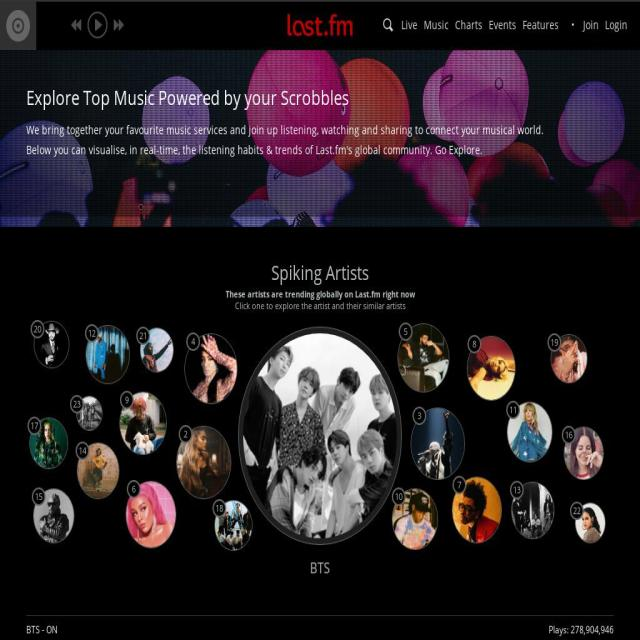button: (288, 8, 352, 42), (0, 2, 36, 50), (522, 8, 558, 42), (86, 0, 108, 50), (65, 0, 86, 50), (108, 0, 128, 50), (455, 8, 483, 42), (489, 8, 516, 42), (424, 8, 448, 42), (605, 8, 627, 42), (378, 8, 398, 42), (402, 8, 418, 42), (583, 8, 599, 42)
heading: (26, 85, 614, 110), (26, 262, 614, 283)
image: (0, 50, 640, 227), (243, 334, 397, 538), (176, 426, 231, 498), (410, 408, 464, 479), (184, 334, 237, 404), (398, 324, 449, 393), (126, 482, 176, 548), (452, 478, 501, 542), (467, 336, 515, 400), (120, 393, 167, 455), (392, 488, 437, 550), (507, 402, 552, 462), (86, 325, 130, 383), (511, 482, 554, 538), (78, 442, 120, 498), (34, 488, 74, 542), (564, 428, 604, 480), (30, 418, 68, 468), (215, 501, 253, 551), (0, 2, 36, 50), (551, 335, 587, 383), (34, 321, 70, 367), (140, 328, 173, 372), (575, 504, 605, 544), (76, 396, 102, 430)
link: (310, 560, 330, 575), (26, 624, 40, 636), (46, 624, 58, 636)
text: (26, 120, 614, 140), (26, 140, 614, 160), (225, 288, 415, 300), (234, 299, 406, 312), (42, 0, 60, 50), (548, 624, 614, 636), (178, 424, 193, 444), (467, 334, 482, 354), (391, 486, 406, 506), (31, 486, 46, 506), (412, 406, 427, 425), (126, 480, 141, 499), (119, 391, 134, 410), (506, 400, 521, 419), (547, 333, 562, 352), (186, 332, 200, 352), (399, 322, 413, 342), (136, 326, 150, 346), (70, 394, 84, 414), (452, 476, 467, 494), (85, 323, 99, 342), (510, 480, 524, 499), (76, 441, 90, 460), (562, 426, 576, 445), (27, 416, 41, 435), (212, 499, 226, 518), (31, 320, 45, 338), (570, 502, 584, 520), (40, 624, 46, 636)
